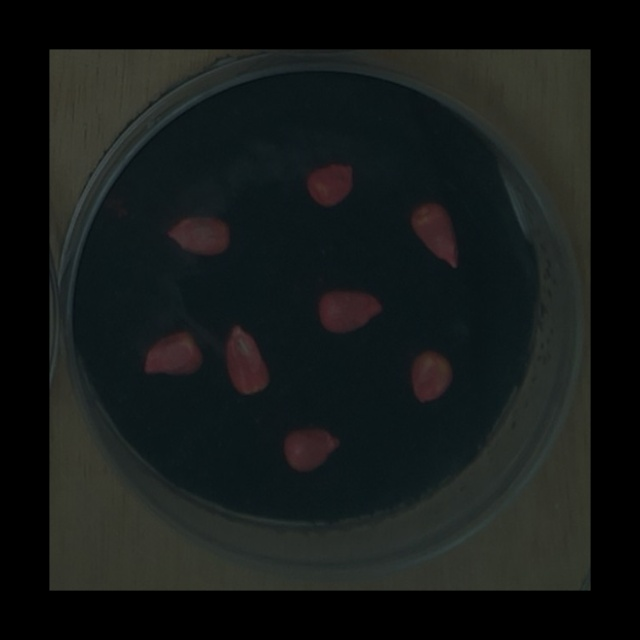Zea mays: (219, 319, 278, 404), (404, 196, 466, 276), (312, 285, 390, 341), (136, 326, 209, 382), (277, 421, 347, 479), (161, 210, 236, 261), (406, 342, 459, 411), (300, 158, 360, 215)
